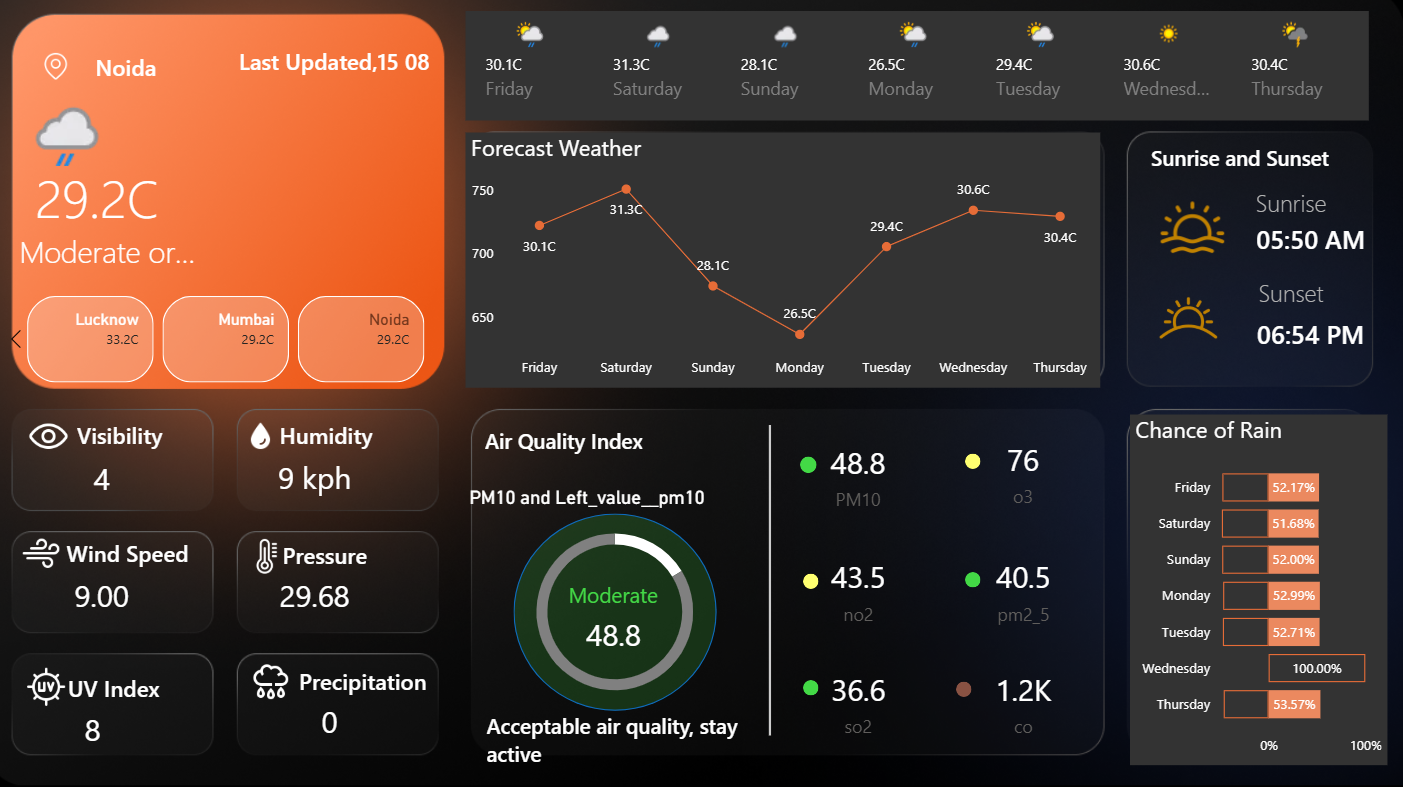

The dashboard page shown, as its layout file describes it:
{"tool":"powerbi","page":{"name":"Page 1","canvas":[1280,720],"ordinal":0},"visuals":[{"type":"shape","box":[476.9,471.6,183,177.7],"z":0},{"type":"advancedSlicerVisual","fields":{"Values":["Location.location.name"]},"box":[13.2,270.2,408.2,88.8],"z":1000},{"type":"shape","box":[0,138,204.1,96.4],"z":2000},{"type":"shape","box":[0,200.3,204.1,69.9],"z":3000},{"type":"shape","box":[28.2,33.4,198.9,70.4],"z":4000},{"type":"shape","box":[216.5,31.7,198.9,66.9],"z":5000},{"type":"image","box":[45.4,51,37.8,34],"z":6000},{"type":"cardVisual","fields":{"Data":["Min(current.current.condition.icon)"]},"box":[13.2,68,102,96.4],"z":7000},{"type":"image","box":[32.1,374.2,51,54.8],"z":8000},{"type":"shape","box":[83.2,366.6,183.3,69.9],"z":9000},{"type":"image","box":[230.6,381.7,35.9,41.6],"z":10000},{"type":"shape","box":[266.5,366.6,183.3,69.9],"z":11000},{"type":"image","box":[28.3,483.8,45.4,47.2],"z":12000},{"type":"shape","box":[73.7,472.4,183.3,69.9],"z":13000},{"type":"image","box":[230.6,489.5,47.2,41.6],"z":14000},{"type":"shape","box":[268.3,474.3,183.3,69.9],"z":15000},{"type":"image","box":[28.3,604.7,54.8,47.2],"z":16000},{"type":"shape","box":[75.6,595.3,183.3,69.9],"z":17000},{"type":"image","box":[234.3,595.3,49.1,56.7],"z":18000},{"type":"shape","box":[283.5,587.7,183.3,69.9],"z":19000},{"type":"card","fields":{"Values":["Sum(current.current.vis_km)"]},"box":[28.3,402.5,155,75.6],"z":20000},{"type":"card","fields":{"Values":["_measures.Wind_speed"]},"box":[220.1,403.1,154.3,74],"z":21000},{"type":"card","fields":{"Values":["Sum(current.current.wind_kph)"]},"box":[28.8,510.1,154.3,74],"z":22000},{"type":"card","fields":{"Values":["Sum(current.current.pressure_in)"]},"box":[220.1,510.1,154.3,74],"z":23000},{"type":"card","fields":{"Values":["Sum(current.current.uv)"]},"box":[20.6,629.4,154.3,74],"z":24000},{"type":"card","fields":{"Values":["Sum(current.current.precip_mm)"]},"box":[234.5,623.2,154.3,74],"z":25000},{"type":"advancedSlicerVisual","fields":{"Values":["Forecast_Day.Day_name"]},"box":[433.9,19.1,813.8,98.5],"z":26000},{"type":"lineChart","title":"Forecast Weather","fields":{"Y":["Sum(Forecast_Day.forecast.forecastday.day.avgtemp_c)"],"Category":["Forecast_Day.Day_name"]},"box":[433.9,128.4,571.8,229.8],"z":27000},{"type":"shape","box":[1051,115.9,197,69.5],"z":28000},{"type":"shape","box":[1075.9,142.3,203.6,97.7],"z":29000},{"type":"shape","box":[1075.9,223.4,203.6,97.7],"z":30000},{"type":"shape","box":[1110.6,180.4,168.8,89.4],"z":31000},{"type":"shape","box":[1110.6,261.5,168.8,97.7],"z":32000},{"type":"image","box":[1051,180.4,74.5,67.9],"z":33000},{"type":"image","box":[1032.8,254.9,105.9,79.4],"z":34000},{"type":"hundredPercentStackedBarChart","title":"Chance of Rain","fields":{"Y":["Sum(Forecast_Day.forecast.forecastday.hour.chance_of_rain)","_measures.Left_value_rain"],"Category":["Forecast_Day.Day_name"]},"box":[1032.8,382.3,231.7,316.1],"z":35000},{"type":"shape","box":[452,371.6,197.3,68.9],"z":36000},{"type":"card","fields":{"Values":["Sum(current.current.air_quality.o3)"]},"box":[883.5,397.7,103.8,73.9],"z":37000},{"type":"card","fields":{"Values":["Sum(current.current.air_quality.pm10)"]},"box":[735.6,397.7,103.8,79.2],"z":38000},{"type":"card","fields":{"Values":["Sum(current.current.air_quality.no2)"]},"box":[735.9,502.7,104.5,74.2],"z":39000},{"type":"card","fields":{"Values":["Sum(current.current.air_quality.pm2_5)"]},"box":[884.3,502.7,104.5,74.2],"z":40000},{"type":"card","fields":{"Values":["Sum(current.current.air_quality.so2)"]},"box":[735.9,604.2,104.5,74.2],"z":41000},{"type":"card","fields":{"Values":["Sum(current.current.air_quality.co)"]},"box":[884.3,604.2,104.5,74.2],"z":42000},{"type":"shape","box":[735.6,420.6,15,15],"z":43000},{"type":"shape","box":[876.4,623,14.1,14.1],"z":44000},{"type":"shape","box":[737.4,526.2,14.1,14.1],"z":45000},{"type":"shape","box":[883.5,417.1,14.1,14.1],"z":46000},{"type":"shape","box":[883.5,524.4,14.1,14.1],"z":47000},{"type":"shape","box":[737.4,621.2,14.1,14.1],"z":48000},{"type":"shape","box":[612.4,392.5,191.8,279.8],"z":49000},{"type":"donutChart","fields":{"Y":["Sum(current.current.air_quality.pm10)","Left_value_PM10.Left_value__pm10"]},"box":[432.9,447,271,205.9],"z":50000},{"type":"card","fields":{"Values":["Sum(current.current.air_quality.pm10)"]},"box":[515.6,533.2,103.8,73.9],"z":51000},{"type":"shape","box":[452.3,631.8,251.7,88],"z":52000}]}

Visuals, with their boxes in screenshot pixels (x1, y1, x2, y2), scaled from the page's 1280x720 canvas onto the 1403x787 screenshot:
shape: x1=523 y1=515 x2=723 y2=710
advancedSlicerVisual - Location.location.name: x1=14 y1=295 x2=462 y2=392
shape: x1=0 y1=151 x2=224 y2=256
shape: x1=0 y1=219 x2=224 y2=295
shape: x1=31 y1=37 x2=249 y2=113
shape: x1=237 y1=35 x2=455 y2=108
image: x1=50 y1=56 x2=91 y2=93
cardVisual - Min(current.current.condition.icon): x1=14 y1=74 x2=126 y2=180
image: x1=35 y1=409 x2=91 y2=469
shape: x1=91 y1=401 x2=292 y2=477
image: x1=253 y1=417 x2=292 y2=463
shape: x1=292 y1=401 x2=493 y2=477
image: x1=31 y1=529 x2=81 y2=580
shape: x1=81 y1=516 x2=282 y2=593
image: x1=253 y1=535 x2=304 y2=581
shape: x1=294 y1=518 x2=495 y2=595
image: x1=31 y1=661 x2=91 y2=713
shape: x1=83 y1=651 x2=284 y2=727
image: x1=257 y1=651 x2=311 y2=713
shape: x1=311 y1=642 x2=512 y2=719
card - Sum(current.current.vis_km): x1=31 y1=440 x2=201 y2=523
card - _measures.Wind_speed: x1=241 y1=441 x2=410 y2=521
card - Sum(current.current.wind_kph): x1=32 y1=558 x2=201 y2=638
card - Sum(current.current.pressure_in): x1=241 y1=558 x2=410 y2=638
card - Sum(current.current.uv): x1=23 y1=688 x2=192 y2=769
card - Sum(current.current.precip_mm): x1=257 y1=681 x2=426 y2=762
advancedSlicerVisual - Forecast_Day.Day_name: x1=476 y1=21 x2=1368 y2=129
"Forecast Weather" lineChart: x1=476 y1=140 x2=1102 y2=392
shape: x1=1152 y1=127 x2=1368 y2=203
shape: x1=1179 y1=156 x2=1402 y2=262
shape: x1=1179 y1=244 x2=1402 y2=351
shape: x1=1217 y1=197 x2=1402 y2=295
shape: x1=1217 y1=286 x2=1402 y2=393
image: x1=1152 y1=197 x2=1234 y2=271
image: x1=1132 y1=279 x2=1248 y2=365
"Chance of Rain" hundredPercentStackedBarChart: x1=1132 y1=418 x2=1386 y2=763
shape: x1=495 y1=406 x2=712 y2=481
card - Sum(current.current.air_quality.o3): x1=968 y1=435 x2=1082 y2=515
card - Sum(current.current.air_quality.pm10): x1=806 y1=435 x2=920 y2=521
card - Sum(current.current.air_quality.no2): x1=807 y1=549 x2=921 y2=631
card - Sum(current.current.air_quality.pm2_5): x1=969 y1=549 x2=1084 y2=631
card - Sum(current.current.air_quality.so2): x1=807 y1=660 x2=921 y2=742
card - Sum(current.current.air_quality.co): x1=969 y1=660 x2=1084 y2=742
shape: x1=806 y1=460 x2=823 y2=476
shape: x1=961 y1=681 x2=976 y2=696
shape: x1=808 y1=575 x2=824 y2=591
shape: x1=968 y1=456 x2=984 y2=471
shape: x1=968 y1=573 x2=984 y2=589
shape: x1=808 y1=679 x2=824 y2=694
shape: x1=671 y1=429 x2=881 y2=735
donutChart - Sum(current.current.air_quality.pm10) x Left_value_PM10.Left_value__pm10: x1=474 y1=489 x2=772 y2=714
card - Sum(current.current.air_quality.pm10): x1=565 y1=583 x2=679 y2=664
shape: x1=496 y1=691 x2=772 y2=786
